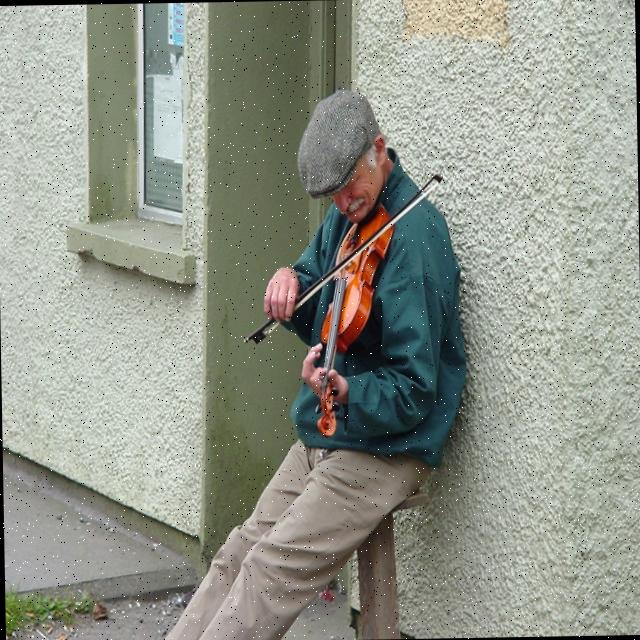violin: (308, 203, 399, 440)
